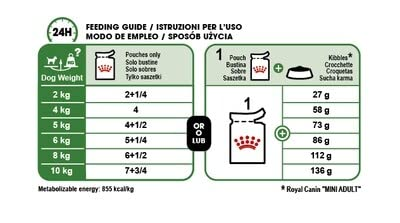Gal): (47, 17, 78, 42)
